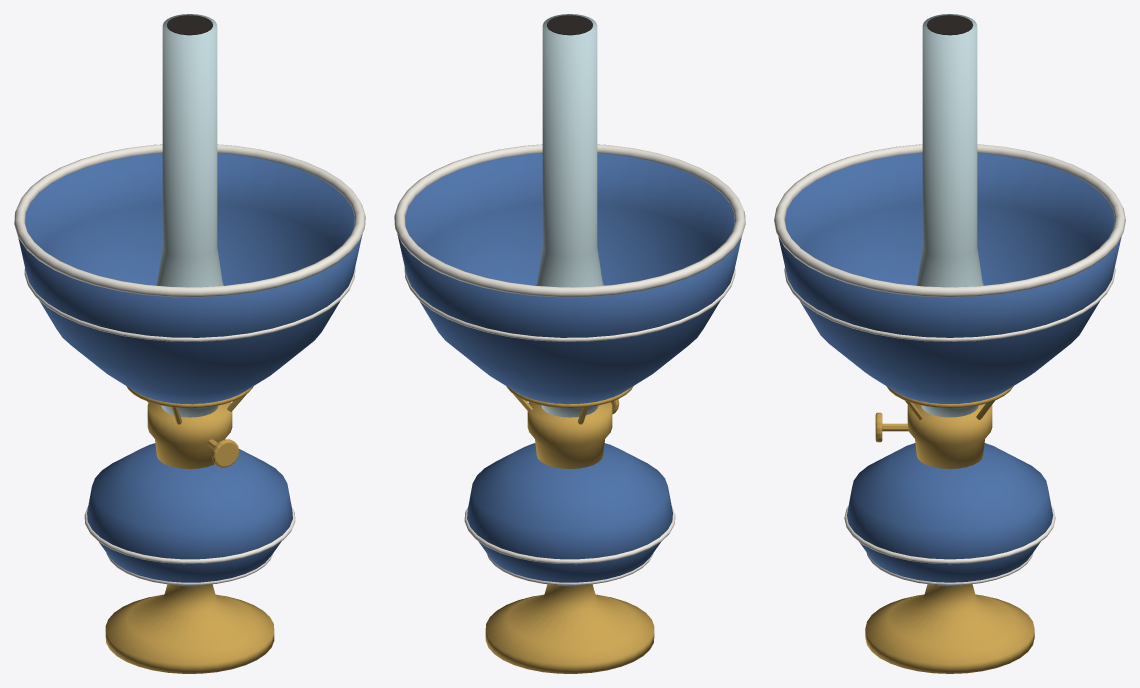
File: hh_cat_old_lamp.glb
3 renders of one model, left to right at view 1: azimuth 30°, elevation 25°; view 2: azimuth 150°, elevation 25°; view 3: azimuth 270°, elevation 25°, orthographic.
Parts seen in each view (by area): view 1: shade, font, chimney, foot, shade_rim, burner, shade_band, band, chimney_top, wick_knob, band.001, gallery; view 2: shade, font, chimney, foot, shade_rim, burner, shade_band, band, chimney_top, band.001, gallery; view 3: shade, font, chimney, foot, shade_rim, burner, shade_band, band, chimney_top, band.001, gallery.
Boxes of the visible parts, bbox=[...] form: shade: bbox=[18, 153, 362, 404]; font: bbox=[87, 443, 292, 586]; chimney: bbox=[156, 14, 223, 417]; foot: bbox=[105, 584, 274, 673]; shade_rim: bbox=[14, 144, 365, 297]; burner: bbox=[147, 402, 232, 468]; shade_band: bbox=[24, 267, 355, 341]; band: bbox=[84, 506, 295, 564]; chimney_top: bbox=[167, 15, 212, 35]; wick_knob: bbox=[211, 439, 239, 467]; band.001: bbox=[106, 553, 272, 585]; gallery: bbox=[126, 386, 253, 407]; shade: bbox=[397, 153, 741, 404]; font: bbox=[467, 443, 672, 586]; chimney: bbox=[536, 14, 603, 417]; foot: bbox=[485, 584, 654, 673]; shade_rim: bbox=[394, 144, 745, 297]; burner: bbox=[527, 402, 612, 468]; shade_band: bbox=[404, 267, 735, 341]; band: bbox=[464, 506, 675, 564]; chimney_top: bbox=[547, 15, 592, 35]; band.001: bbox=[487, 553, 653, 585]; gallery: bbox=[506, 386, 633, 407]; shade: bbox=[778, 153, 1121, 403]; font: bbox=[846, 443, 1053, 586]; chimney: bbox=[916, 14, 983, 417]; foot: bbox=[865, 584, 1034, 673]; shade_rim: bbox=[774, 144, 1125, 297]; burner: bbox=[907, 403, 992, 468]; shade_band: bbox=[784, 267, 1115, 341]; band: bbox=[844, 506, 1055, 564]; chimney_top: bbox=[926, 15, 973, 35]; band.001: bbox=[866, 553, 1033, 585]; gallery: bbox=[886, 386, 1013, 407].
Size of the model in its own units: 0.26 by 0.5 by 0.26.
